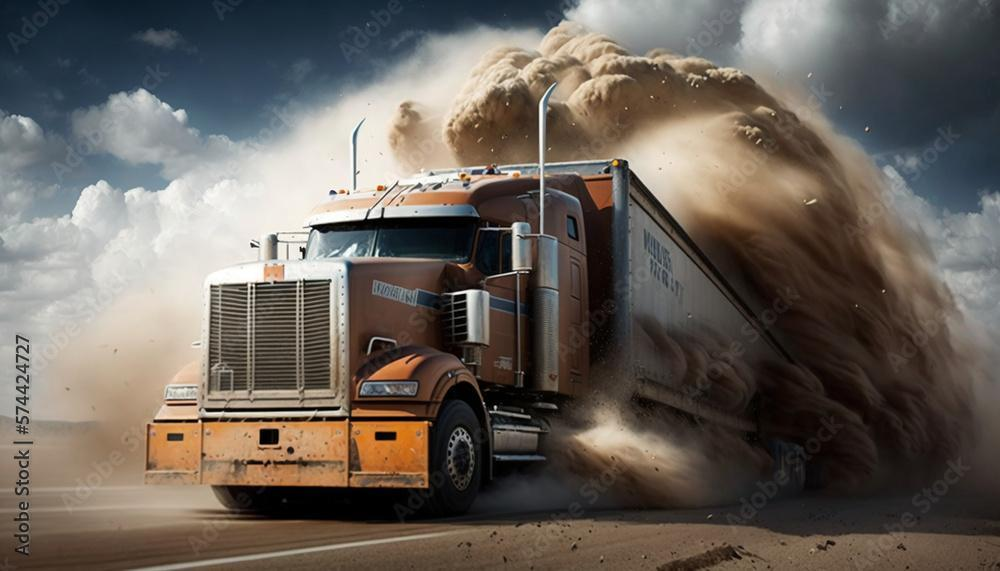truck: (124, 141, 614, 520)
